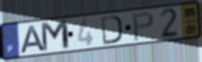2: (158, 7, 180, 41)
4: (76, 17, 97, 49)
A: (19, 24, 47, 55)
D: (100, 14, 124, 46)
M: (40, 19, 72, 54)
P: (131, 10, 155, 43)
